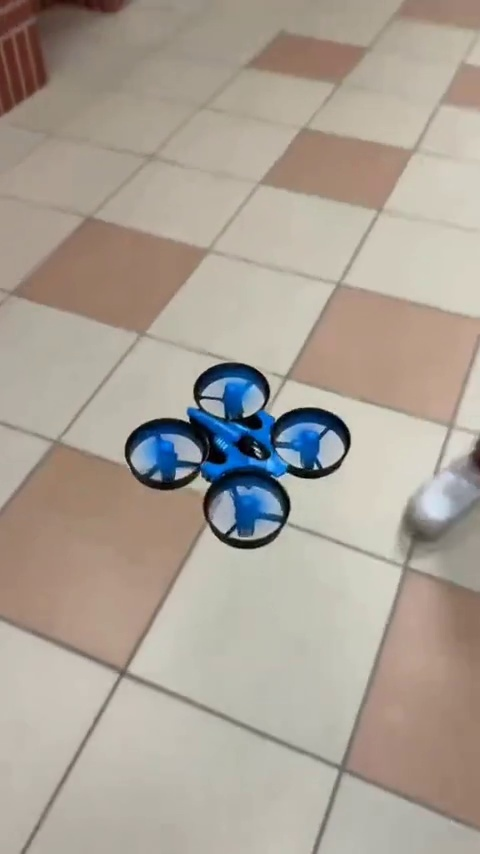drone: (131, 369, 351, 542)
